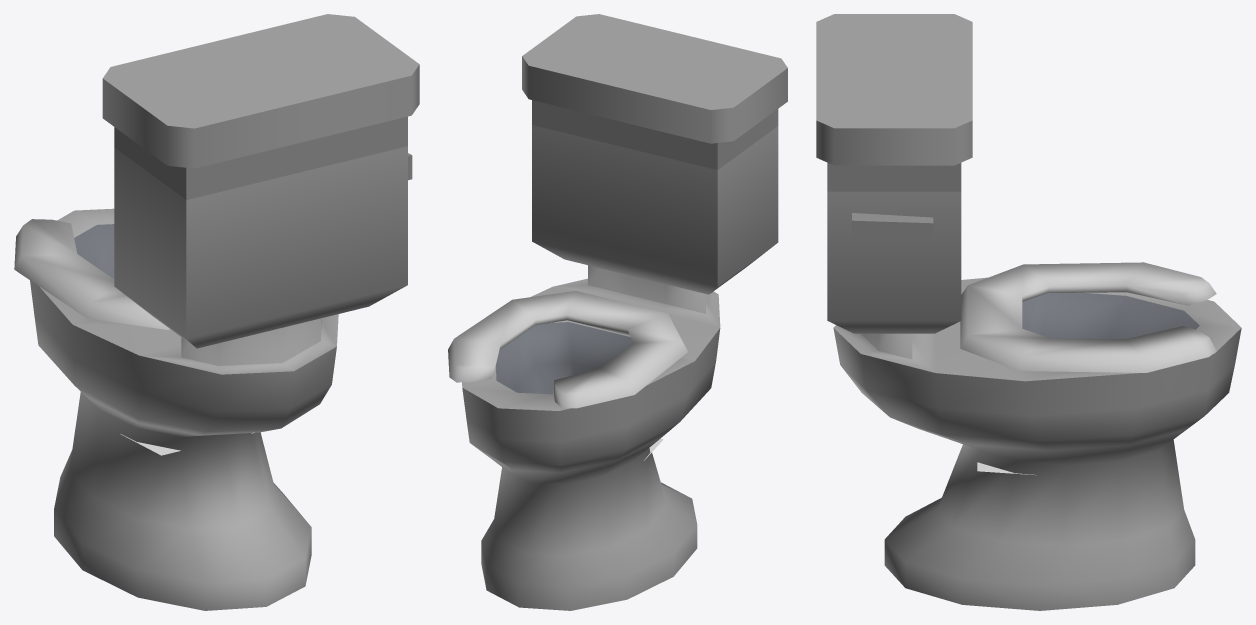
Rendered from Toilet.fbx.
The picture shows the model from 3 angles, left to right: view 1: azimuth 30°, elevation 25°; view 2: azimuth 150°, elevation 25°; view 3: azimuth 270°, elevation 25°; orthographic projection. The views are drawn at different scales.
Visible parts, largest first — view 1: Toilet, ToiletLid; view 2: Toilet, ToiletLid; view 3: Toilet, ToiletLid.
Part boxes in pixels (box(x1,y1,x2,y2)): Toilet: box(14, 116, 412, 610); ToiletLid: box(102, 14, 419, 168); Toilet: box(448, 100, 778, 610); ToiletLid: box(522, 14, 787, 143); Toilet: box(827, 162, 1241, 610); ToiletLid: box(816, 14, 972, 165).
Bounding box in the file's own units: 0.54 × 1.08 × 0.8423.
